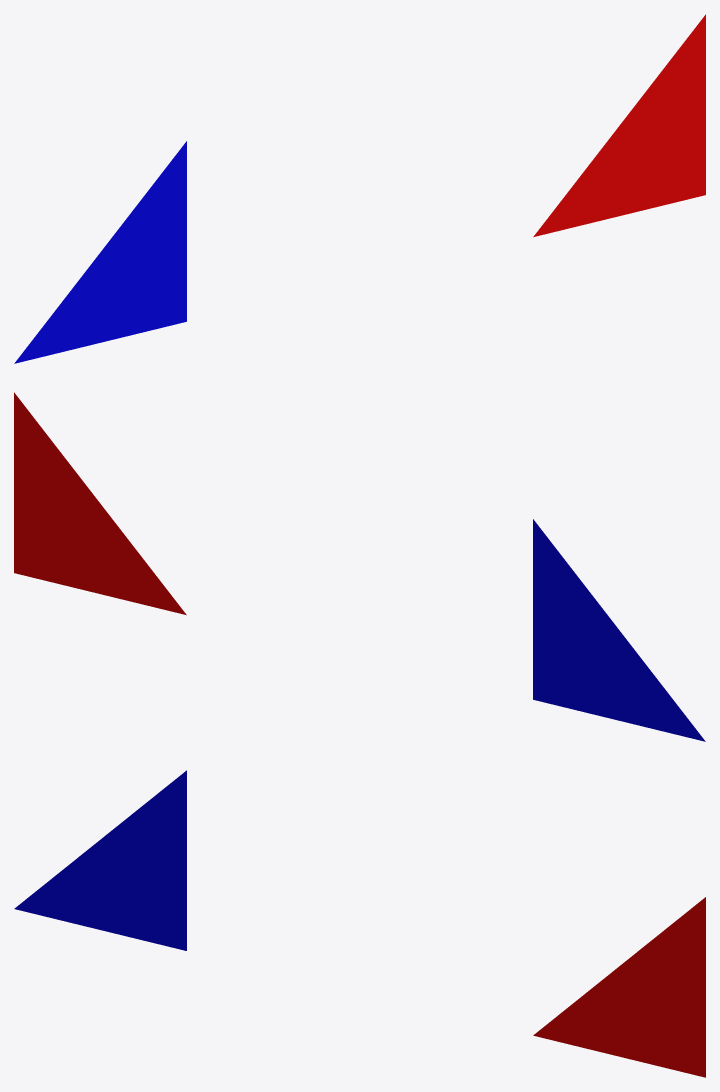
File: fbx_material_order.fbx
3 renders of one model, top to bottom at view 1: azimuth 30°, elevation 25°; view 2: azimuth 150°, elevation 25°; view 3: azimuth 330°, elevation 25°, orthographic.
Visible parts, largest first — view 1: Pair; view 2: Pair; view 3: Pair.
Part boxes in pixels (box(x1,y1,x2,y2)): Pair: box(14, 14, 705, 363); Pair: box(14, 392, 705, 741); Pair: box(14, 770, 705, 1077).
Bounding box in the file's own units: 4 × 1 × 0.
